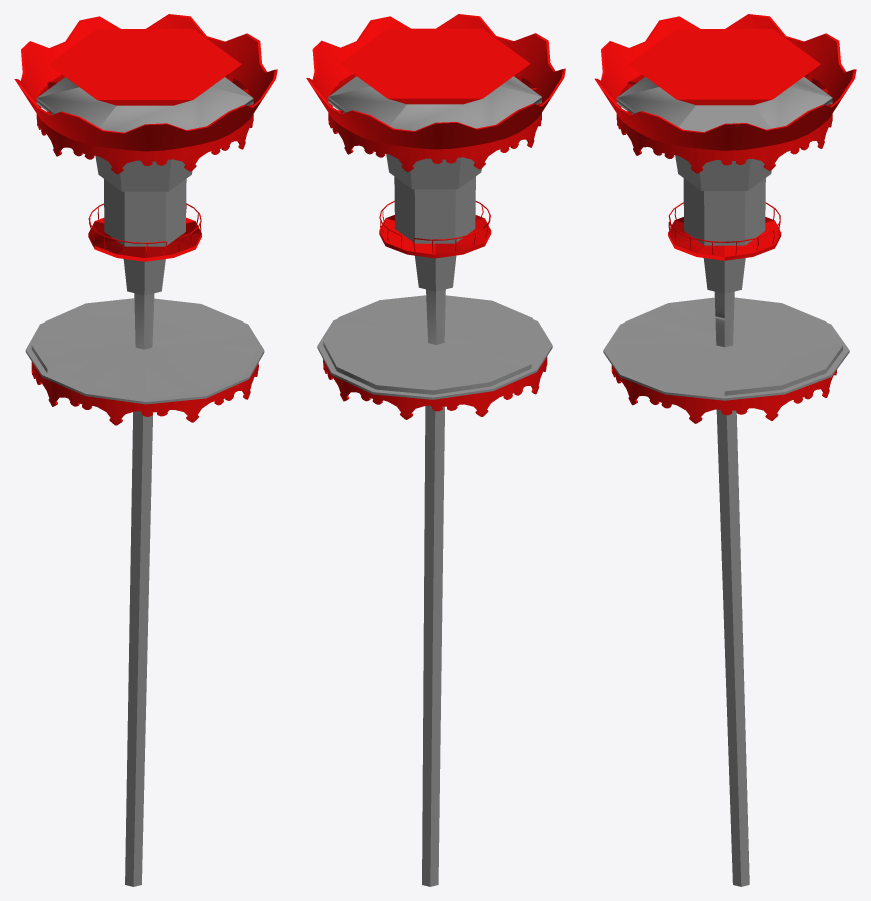
File: Mod_Carousel.FBX
3 views of the same model, side by side, from view 1: azimuth 30°, elevation 25°; view 2: azimuth 150°, elevation 25°; view 3: azimuth 270°, elevation 25° (orthographic).
Parts seen in each view (by area): view 1: Mod_Crousel; view 2: Mod_Crousel; view 3: Mod_Crousel.
Part boxes in pixels (x1=…): Mod_Crousel: x1=14, y1=14, x2=277, y2=886; Mod_Crousel: x1=306, y1=14, x2=565, y2=886; Mod_Crousel: x1=594, y1=14, x2=856, y2=886.
Bounding box in the file's own units: 1700 × 5868 × 1701.
